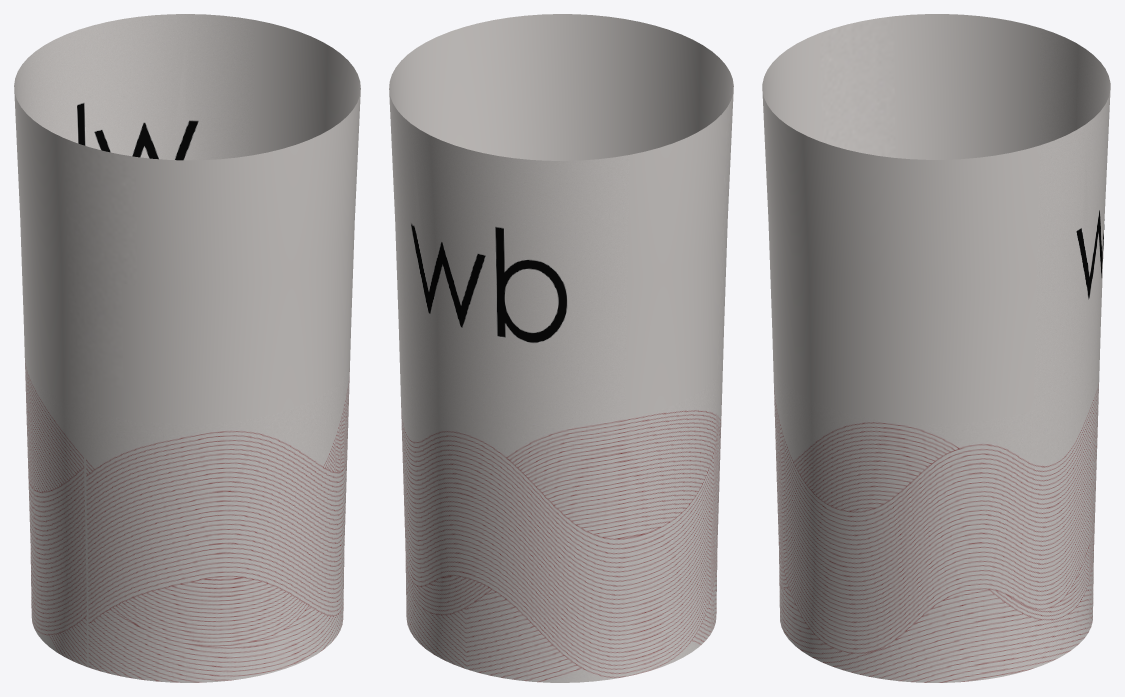
Rendered from label-6.glb.
3 renders of one model, left to right at view 1: azimuth 30°, elevation 25°; view 2: azimuth 150°, elevation 25°; view 3: azimuth 270°, elevation 25°, orthographic.
Visible parts, largest first — view 1: Wine_Rose_By_Ott_Domaines_Ott.001; view 2: Wine_Rose_By_Ott_Domaines_Ott.001; view 3: Wine_Rose_By_Ott_Domaines_Ott.001.
Boxes of the visible parts, x1,y1,x2,y2 form: Wine_Rose_By_Ott_Domaines_Ott.001: [14, 14, 360, 682]; Wine_Rose_By_Ott_Domaines_Ott.001: [389, 14, 733, 682]; Wine_Rose_By_Ott_Domaines_Ott.001: [762, 14, 1110, 682].
Bounding box in the file's own units: 0.7082 × 1.2 × 0.714.
1 material, 1 textured.
